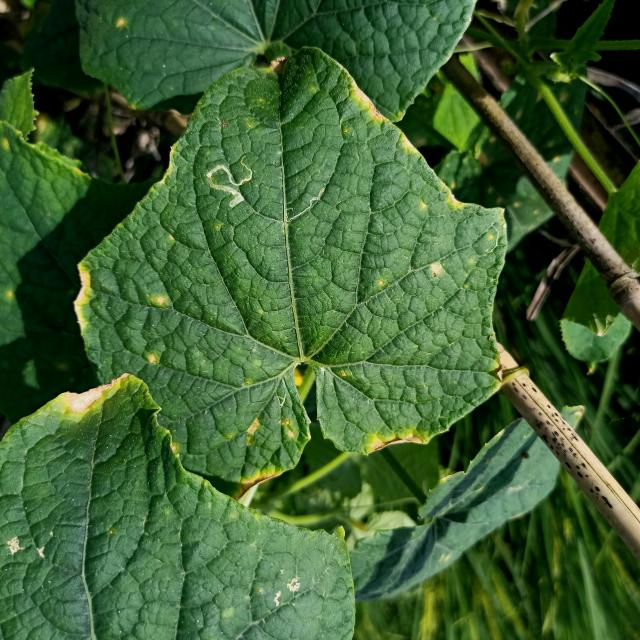disease_cucumber: (239, 409, 298, 445), (442, 192, 469, 213), (429, 260, 447, 278), (149, 293, 169, 309), (144, 350, 159, 366)
